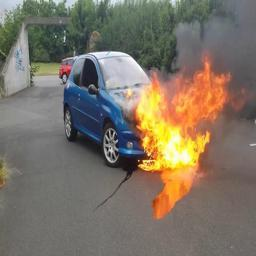fire: (134, 54, 230, 169)
